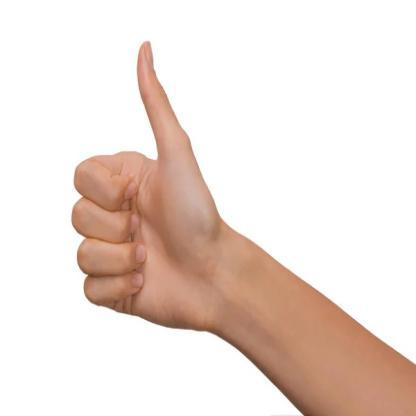thumb_up: (69, 34, 220, 331)
